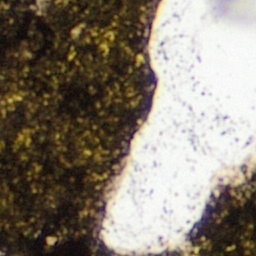cement_matrix: (0, 0, 158, 255), (190, 171, 255, 255), (161, 253, 184, 255)
gravel_crushed_stones: (99, 0, 255, 255)
